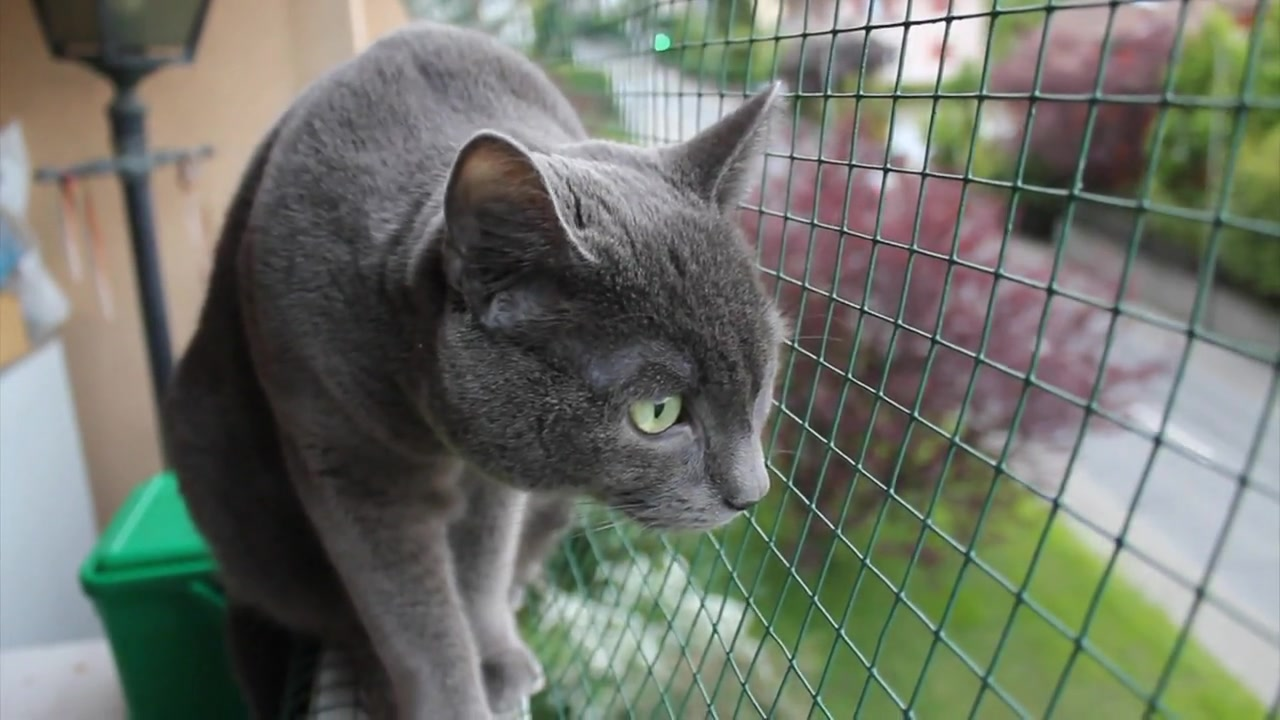cat: (151, 24, 790, 720)
